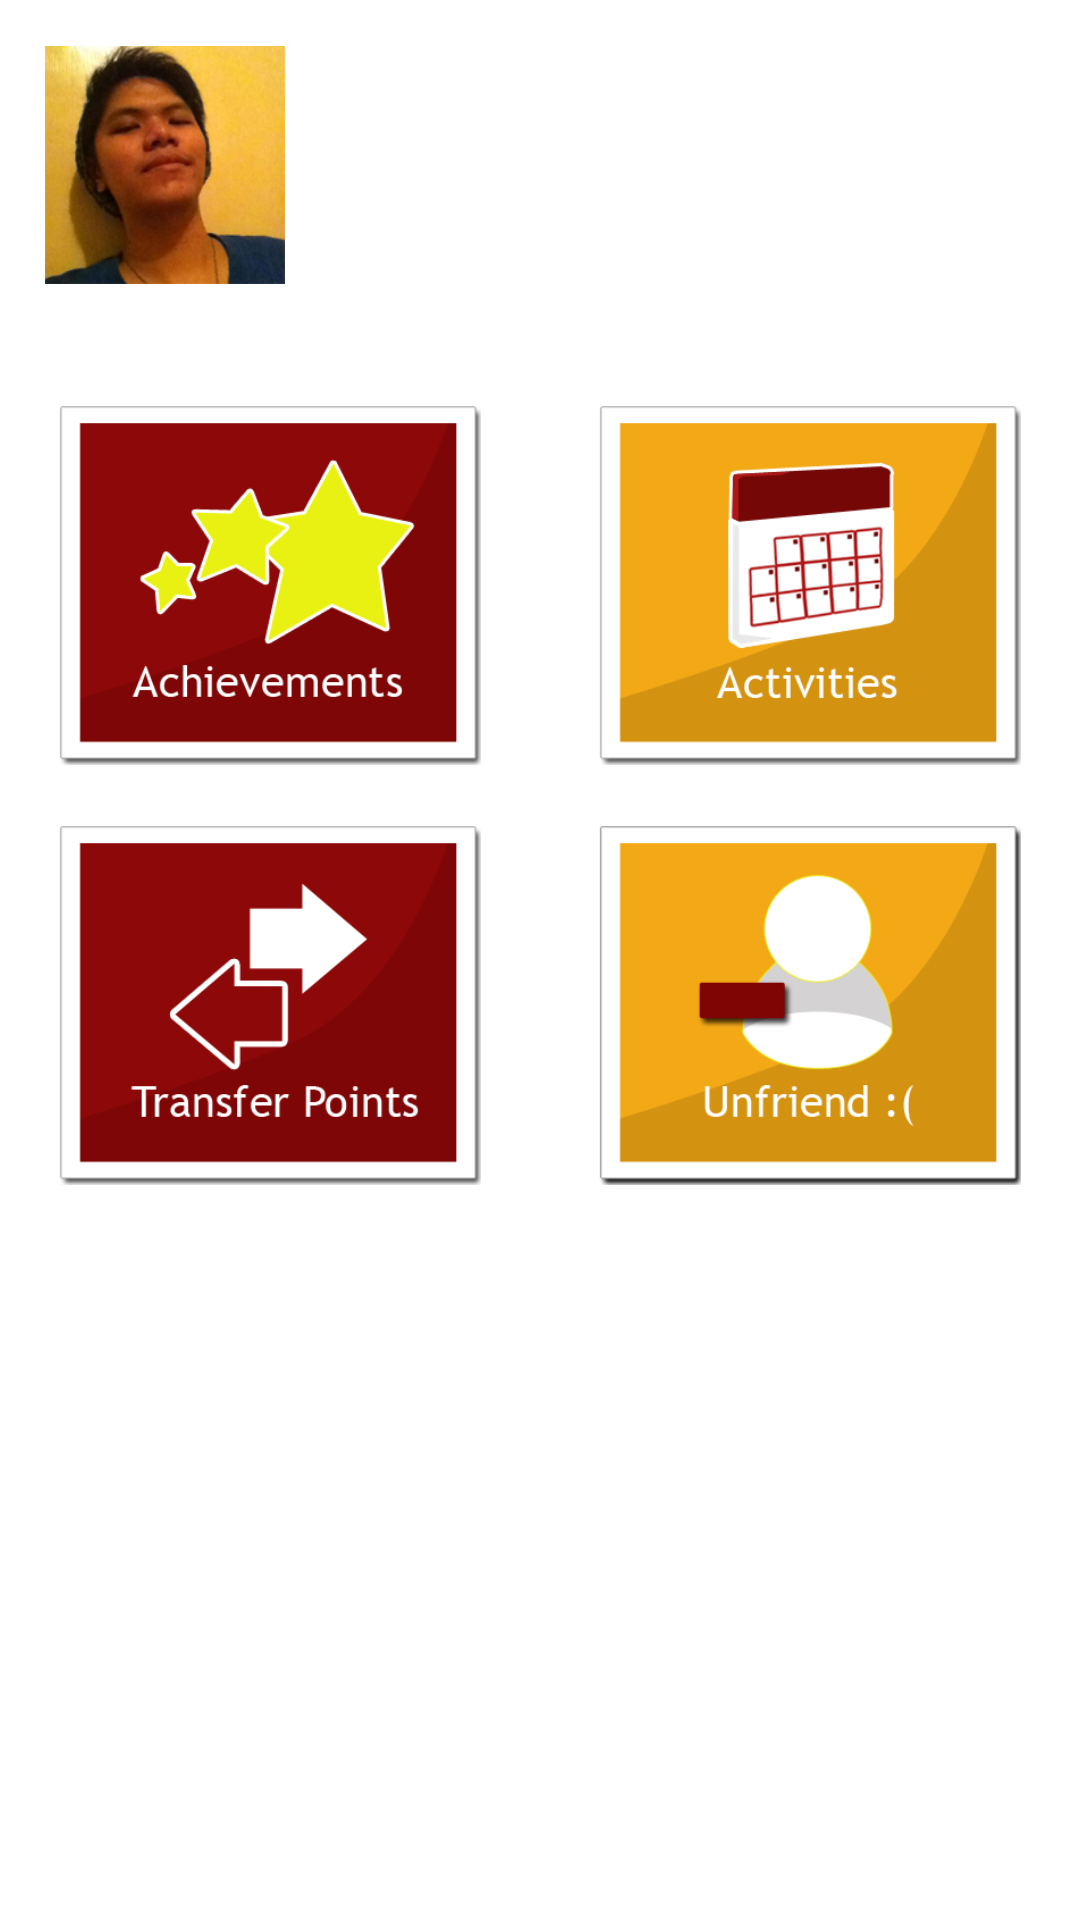

Where to tap for icons on this 1080w x 1920h app screen, as (x=x, y=y):
upic: (x=165, y=165)
